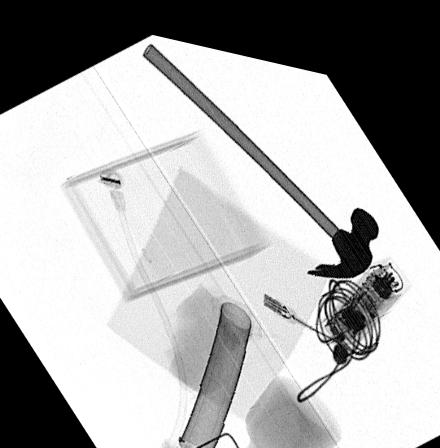Hammer: (141, 36, 378, 264)
